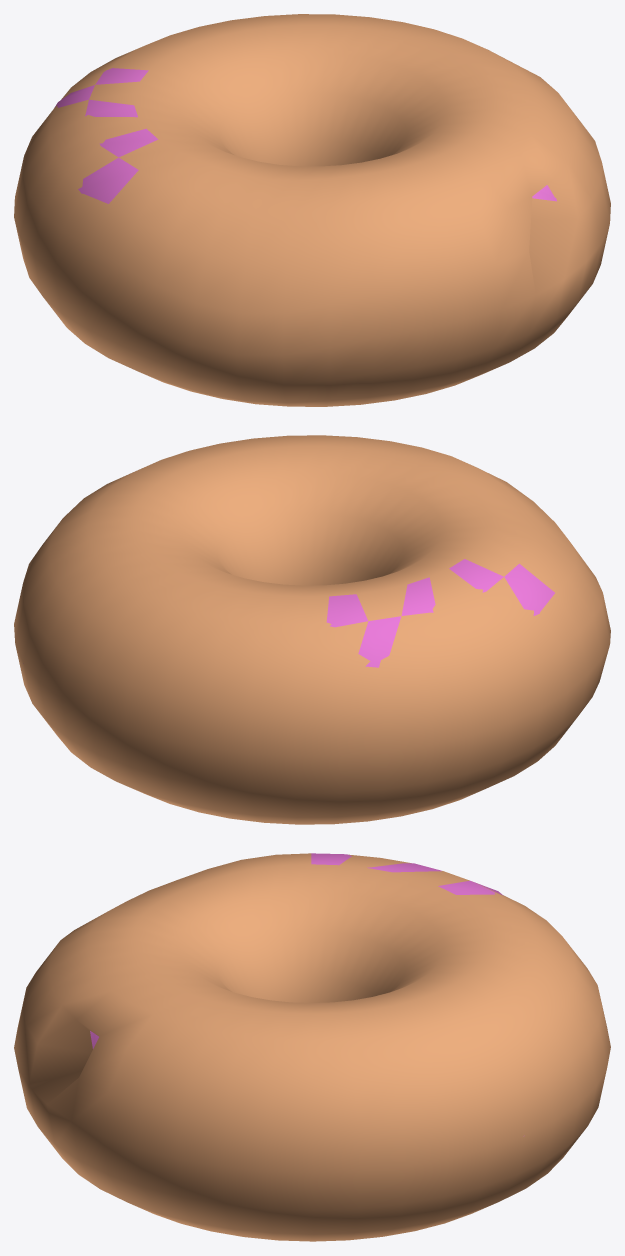
File: donut.gltf
The picture shows the model from 3 angles, top to bottom: view 1: azimuth 30°, elevation 25°; view 2: azimuth 150°, elevation 25°; view 3: azimuth 270°, elevation 25°; orthographic projection.
Parts seen in each view (by area): view 1: Donut, Icing; view 2: Donut, Icing; view 3: Donut, Icing.
Part boxes in pixels (bbox=[...]): Donut: bbox=[14, 14, 610, 406]; Icing: bbox=[54, 68, 556, 203]; Donut: bbox=[14, 435, 610, 824]; Icing: bbox=[23, 559, 554, 667]; Donut: bbox=[14, 853, 610, 1241]; Icing: bbox=[90, 853, 524, 1136].
Size of the model in its own units: 0.0992 by 0.0401 by 0.0999.
